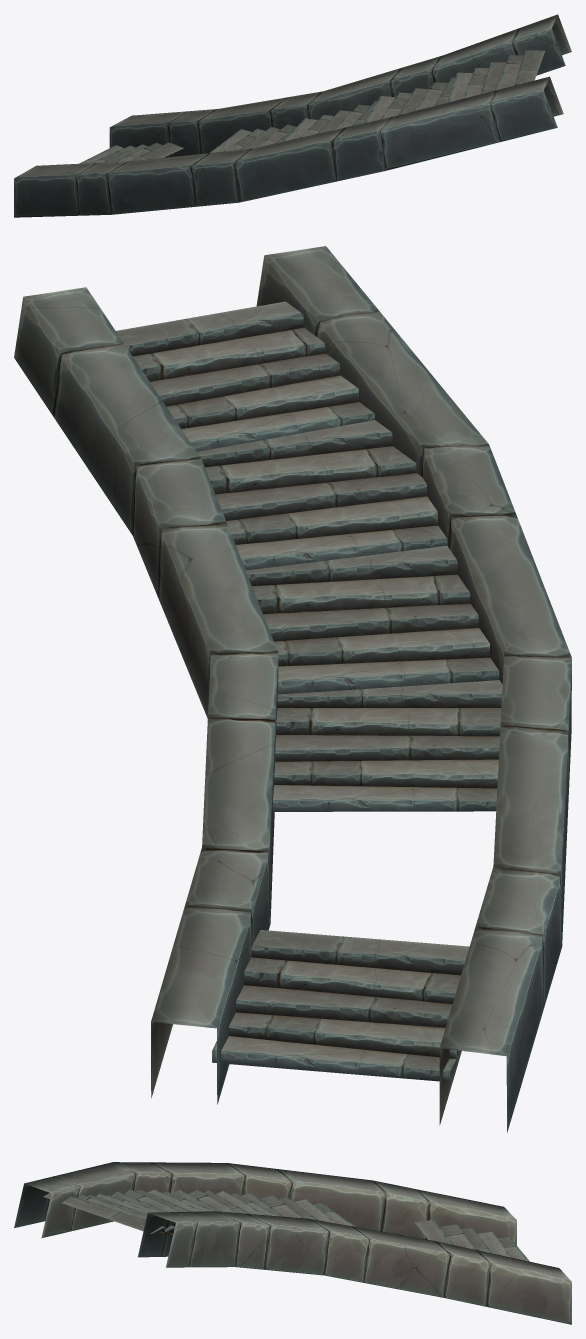
The model's file is SM_Stair_03.glb.
3 renders of one model, top to bottom at view 1: azimuth 30°, elevation 25°; view 2: azimuth 150°, elevation 25°; view 3: azimuth 270°, elevation 25°, orthographic. The views are drawn at different scales.
Parts seen in each view (by area): view 1: SM_Stair_03; view 2: SM_Stair_03; view 3: SM_Stair_03.
Part boxes in pixels (x1=…): SM_Stair_03: x1=14, y1=14, x2=571, y2=217; SM_Stair_03: x1=14, y1=246, x2=571, y2=1132; SM_Stair_03: x1=14, y1=1162, x2=571, y2=1324.
Size of the model in its own units: 16.43 by 8.44 by 17.98.
2 materials, 2 textured.
